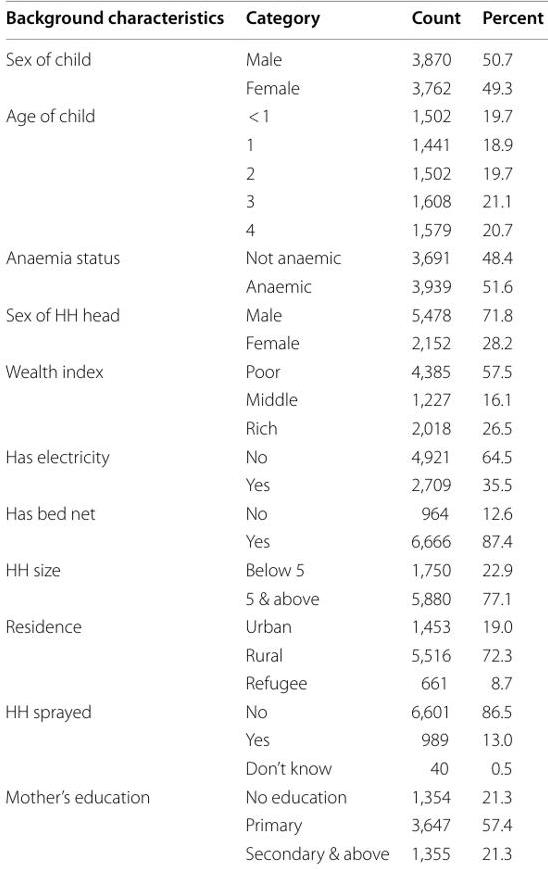table: (4, 4, 542, 863)
table column: (4, 4, 234, 863), (234, 4, 399, 863), (470, 4, 542, 863), (399, 4, 470, 863)
table column header: (4, 4, 542, 38)
table row: (4, 38, 542, 73), (4, 4, 542, 38), (4, 129, 542, 158), (4, 214, 542, 243), (4, 271, 542, 300), (4, 356, 542, 385), (4, 441, 542, 470), (4, 526, 542, 555), (4, 611, 542, 640), (4, 696, 542, 725), (4, 753, 542, 782), (4, 73, 542, 101), (4, 101, 542, 129), (4, 158, 542, 186), (4, 186, 542, 214), (4, 243, 542, 271), (4, 300, 542, 328), (4, 328, 542, 356), (4, 385, 542, 413), (4, 413, 542, 441), (4, 470, 542, 498), (4, 498, 542, 526), (4, 555, 542, 583), (4, 583, 542, 611), (4, 640, 542, 668), (4, 668, 542, 696), (4, 725, 542, 753), (4, 782, 542, 810), (4, 810, 542, 838), (4, 838, 542, 863)
table spanning cell: (4, 101, 234, 243), (4, 696, 234, 782), (4, 356, 234, 441), (4, 611, 234, 696), (4, 782, 234, 863), (4, 38, 234, 101), (4, 243, 234, 300), (4, 441, 234, 498), (4, 498, 234, 555), (4, 300, 234, 356), (4, 555, 234, 611)
